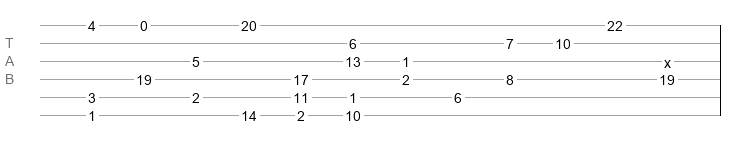0: (140, 18, 148, 28)
1: (88, 108, 96, 118), (349, 90, 357, 100), (402, 54, 410, 64)
10: (345, 108, 361, 118), (555, 36, 571, 46)
11: (293, 90, 309, 100)
13: (345, 54, 361, 64)
14: (241, 108, 257, 118)
17: (293, 72, 309, 82)
19: (136, 72, 152, 82), (659, 72, 675, 82)
2: (192, 90, 200, 100), (297, 108, 305, 118), (402, 72, 410, 82)
20: (241, 18, 257, 28)
22: (607, 18, 623, 28)
3: (88, 90, 96, 100)
4: (88, 18, 96, 28)
5: (192, 54, 200, 64)
6: (349, 36, 357, 46), (454, 90, 462, 100)
7: (506, 36, 514, 46)
8: (506, 72, 514, 82)
x: (664, 55, 671, 63)
